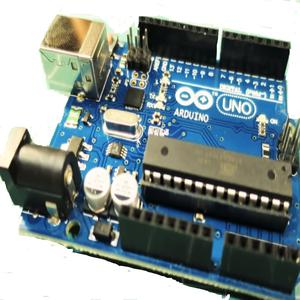duino: (16, 6, 297, 293)
